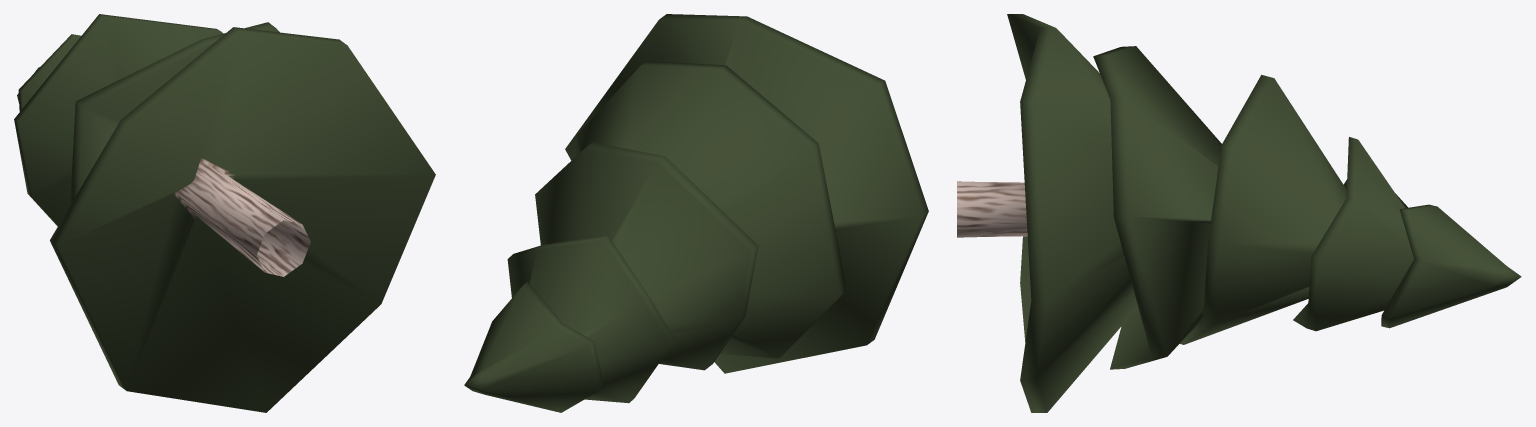
The model's file is firtree_03.dae.
The picture shows the model from 3 angles, left to right: view 1: azimuth 30°, elevation 25°; view 2: azimuth 150°, elevation 25°; view 3: azimuth 270°, elevation 25°; orthographic projection. The views are drawn at different scales.
Visible parts, largest first — view 1: firtree; view 2: firtree; view 3: firtree.
Boxes of the visible parts, x1=… form: firtree: x1=14, y1=14, x2=435, y2=412; firtree: x1=464, y1=14, x2=928, y2=412; firtree: x1=957, y1=14, x2=1521, y2=412.
Size of the model in its own units: 0.9407 by 1.24 by 0.9073.
Materials: 1 (1 with a texture image).
